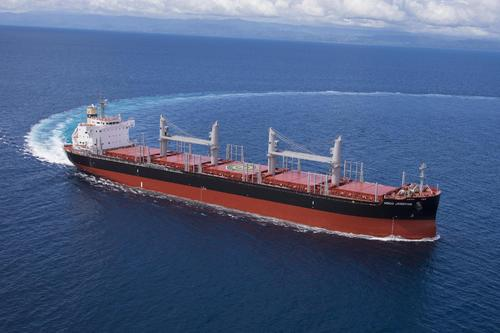Cargoship: (63, 95, 441, 241)
